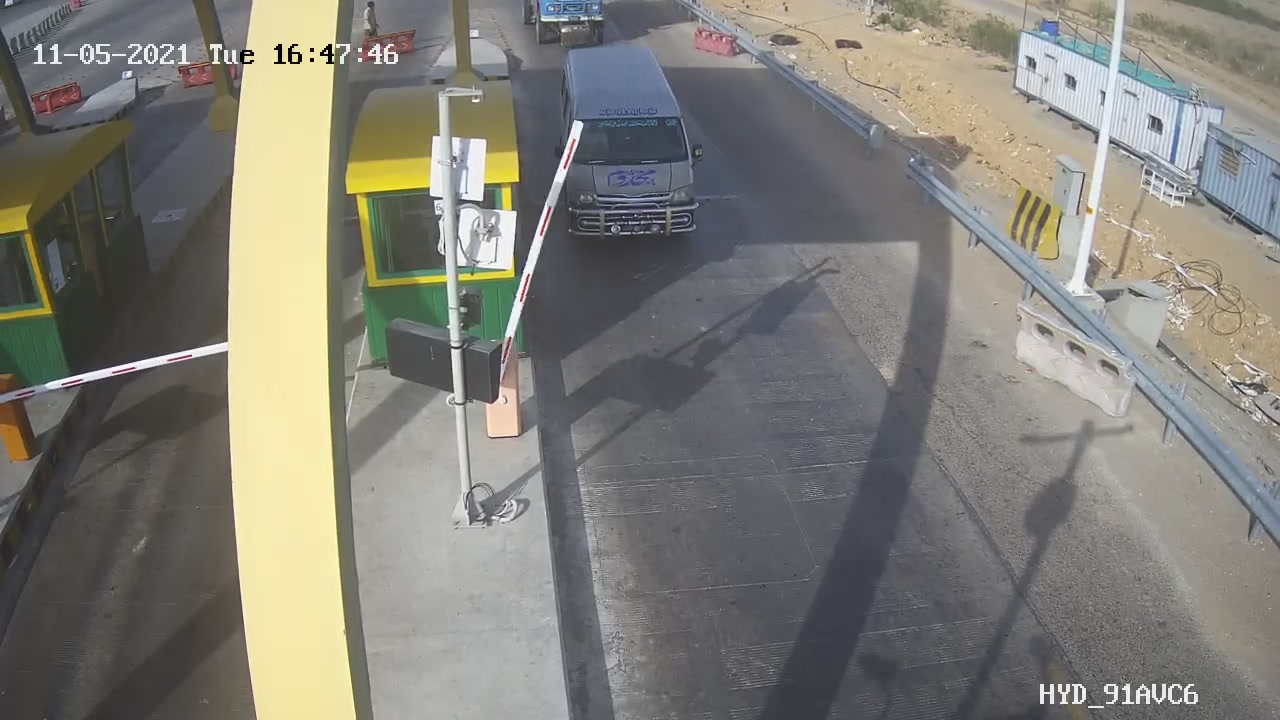F2: (539, 39, 727, 260)
